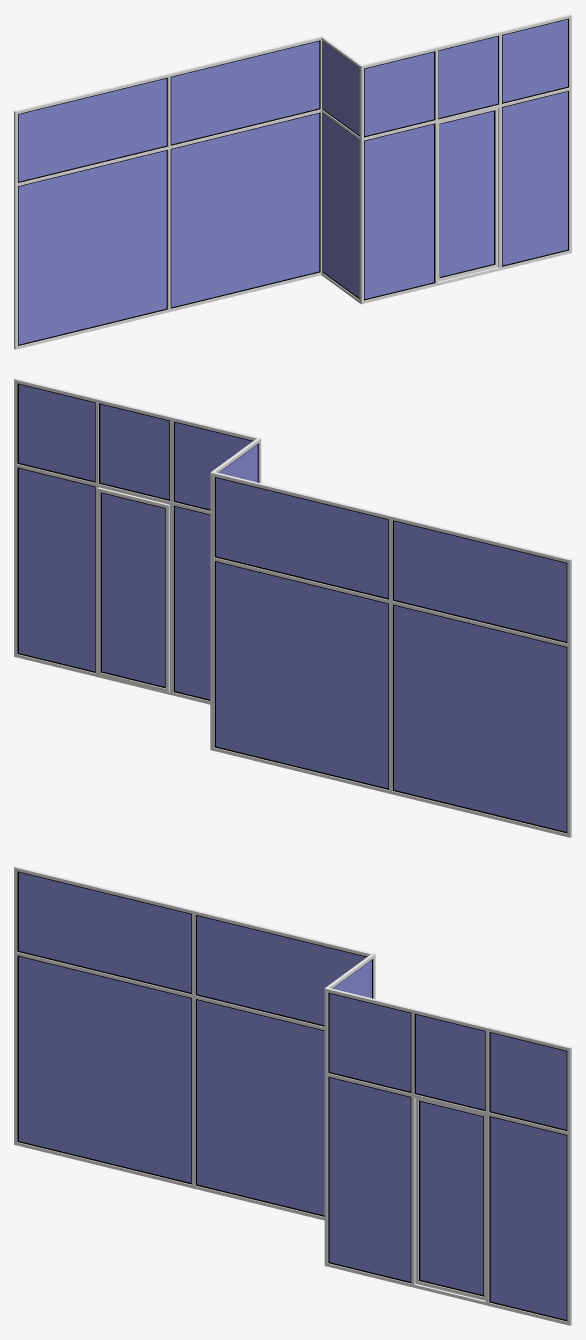
Rendered from tephaty_glass.fbx.
3 views of the same model, one above another, from view 1: azimuth 30°, elevation 25°; view 2: azimuth 150°, elevation 25°; view 3: azimuth 330°, elevation 25° (orthographic). The views are drawn at different scales.
Visible parts, largest first — view 1: Window.002; view 2: Window.002; view 3: Window.002.
Boxes of the visible parts, <box> form: Window.002: <box>14,14,571,349</box>; Window.002: <box>14,378,571,837</box>; Window.002: <box>14,866,571,1325</box>.
Bounding box in the file's own units: 1012 × 445 × 140.
